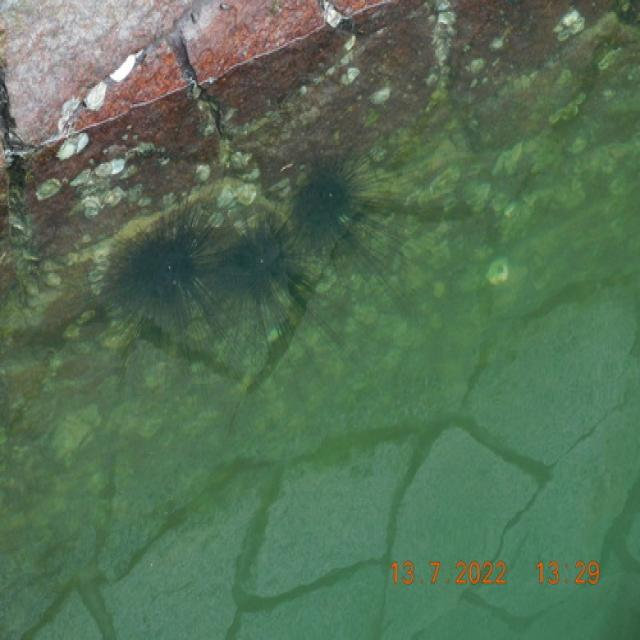Urchin: (87, 200, 243, 380), (276, 143, 418, 311), (200, 212, 338, 370)
